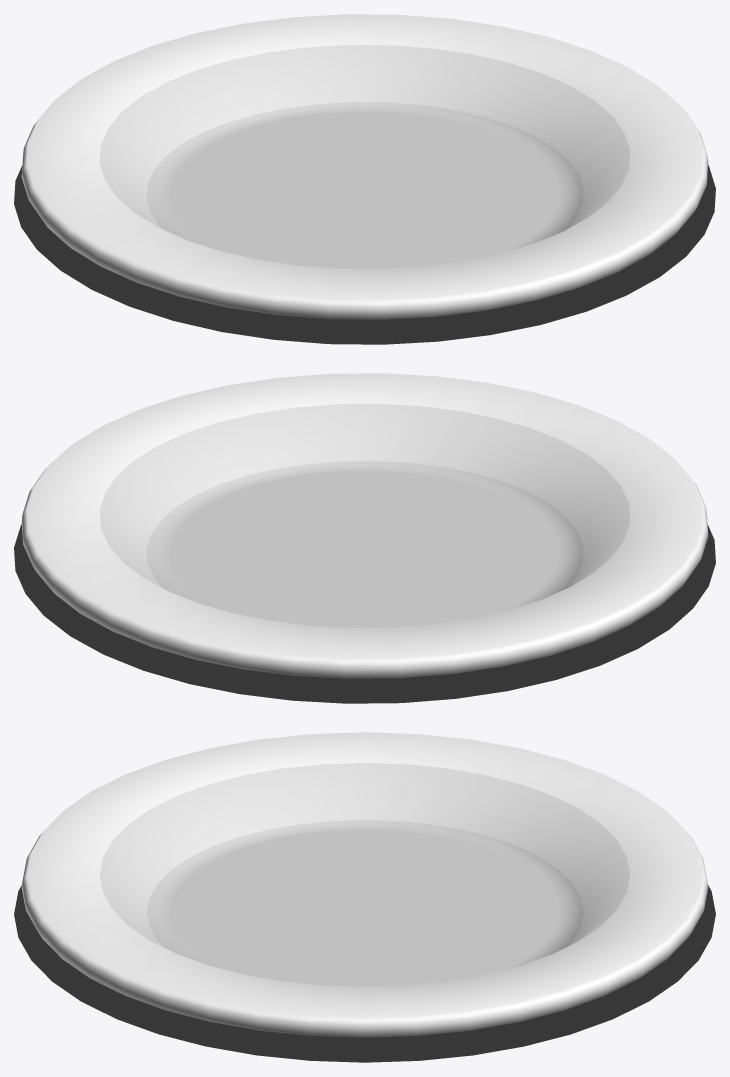
File: disk.fbx
The picture shows the model from 3 angles, top to bottom: view 1: azimuth 30°, elevation 25°; view 2: azimuth 150°, elevation 25°; view 3: azimuth 270°, elevation 25°; orthographic projection.
Visible parts, largest first — view 1: disk; view 2: disk; view 3: disk.
Boxes of the visible parts, x1,y1,x2,y2 form: disk: [14, 14, 715, 344]; disk: [14, 373, 715, 703]; disk: [14, 732, 715, 1062].
Size of the model in its own units: 2.17 by 0.1342 by 2.17.
